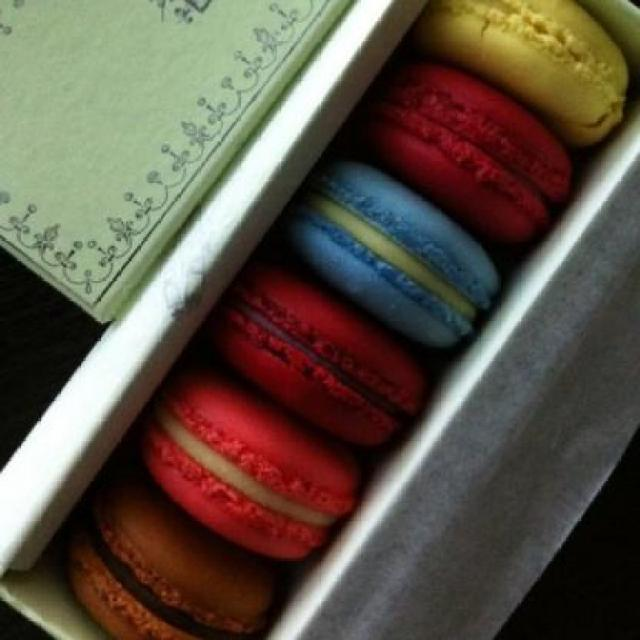Macaron: (50, 2, 619, 640)
